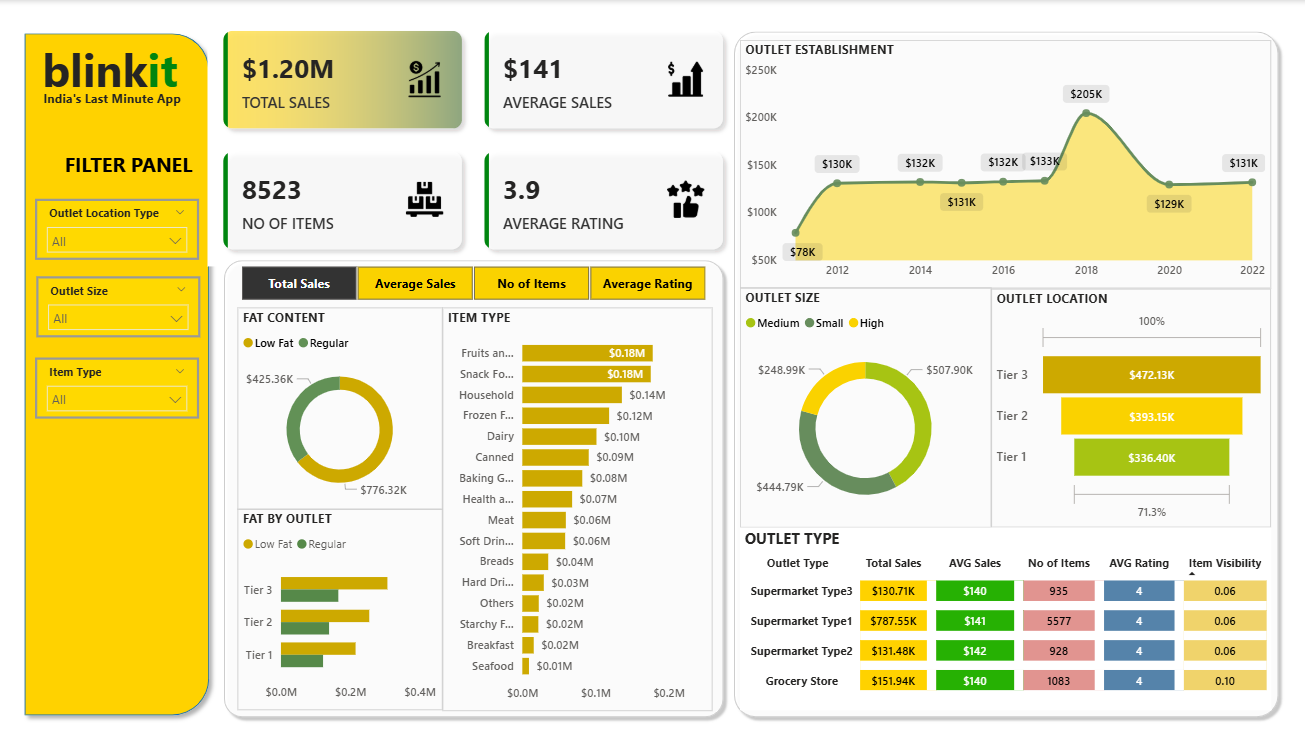

The page's visual inventory and layout, read from the dashboard file:
{"tool":"powerbi","page":{"name":"Page 1","canvas":[1400,800],"ordinal":0},"visuals":[{"type":"shape","box":[17.4,26.8,215.8,749.3],"z":0},{"type":"textbox","box":[40.2,36.2,160.9,75.1],"z":1000},{"type":"textbox","box":[41.6,91.2,159.5,29.5],"z":2000},{"type":"cardVisual","fields":{"Data":["Sheet1.Total Sales","Sheet1.Average Sales","Sheet1.No of Items","Sheet1.Average Rating"]},"box":[222.5,16.1,571,269.4],"z":3000},{"type":"shape","box":[233.2,272.1,549.6,504],"z":4000},{"type":"slicer","fields":{"Values":["Metrics.Metrics"]},"box":[233.2,278.8,546.9,49.6],"z":5000},{"type":"donutChart","title":"FAT CONTENT","fields":{"Y":["Sheet1.Total Sales"],"Category":["Sheet1.Item Fat Content"]},"box":[254.7,330.3,219.8,217.2],"z":6000},{"type":"barChart","title":"ITEM TYPE","fields":{"Y":["Sheet1.Total Sales"],"Category":["Sheet1.Item Type"]},"box":[474.5,329.8,289.5,433],"z":7000},{"type":"clusteredBarChart","title":"FAT BY OUTLET","fields":{"Y":["Sheet1.Total Sales"],"Category":["Sheet1.Outlet Location Type"],"Series":["Sheet1.Item Fat Content"]},"box":[254.7,545.6,219.8,215.8],"z":8000},{"type":"shape","box":[780.2,26.8,597.9,749.3],"z":9000},{"type":"lineChart","title":"OUTLET ESTABLISHMENT","fields":{"Y":["Sheet1.Total Sales"],"Category":["Sheet1.Outlet Establishment Year"]},"box":[793.6,42.9,569.7,266.8],"z":10000},{"type":"donutChart","title":"OUTLET SIZE","fields":{"Y":["Sheet1.Total Sales"],"Category":["Sheet1.Outlet Size"]},"box":[793.6,308.3,269.4,257.4],"z":11000},{"type":"funnel","title":"OUTLET LOCATION","fields":{"Y":["Sheet1.Total Sales"],"Category":["Sheet1.Outlet Location Type","Sheet1.Item Fat Content"]},"box":[1063,309.7,300.3,256],"z":12000},{"type":"pivotTable","title":"OUTLET TYPE","fields":{"Rows":["Sheet1.Outlet Type"],"Values":["Sheet1.Total Sales","Sheet1.Average Sales","Sheet1.No of Items","Sheet1.Average Rating","Avg(Sheet1.Item Visibility)"]},"box":[793.6,565.7,569.7,195.7],"z":13000},{"type":"slicer","fields":{"Values":["Sheet1.Outlet Location Type"]},"box":[37.5,213.1,175.6,65.7],"z":14000},{"type":"slicer","fields":{"Values":["Sheet1.Outlet Size"]},"box":[38.9,296.2,175.6,65.7],"z":15000},{"type":"slicer","fields":{"Values":["Sheet1.Item Type"]},"box":[37.5,383.4,175.6,65.7],"z":16000},{"type":"textbox","box":[64.3,156.8,154.2,40.2],"z":17000}]}

Visuals, with their boxes in screenshot pixels (x1, y1, x2, y2), scaled from the page's 1400x800 canvas onto the 1305x745 screenshot:
shape: (left=16, top=25, right=217, bottom=723)
textbox: (left=37, top=34, right=187, bottom=104)
textbox: (left=39, top=85, right=187, bottom=112)
cardVisual - Sheet1.Total Sales x Sheet1.Average Sales: (left=207, top=15, right=740, bottom=266)
shape: (left=217, top=253, right=730, bottom=723)
slicer - Metrics.Metrics: (left=217, top=260, right=727, bottom=306)
"FAT CONTENT" donutChart: (left=237, top=308, right=442, bottom=510)
"ITEM TYPE" barChart: (left=442, top=307, right=712, bottom=710)
"FAT BY OUTLET" clusteredBarChart: (left=237, top=508, right=442, bottom=709)
shape: (left=727, top=25, right=1285, bottom=723)
"OUTLET ESTABLISHMENT" lineChart: (left=740, top=40, right=1271, bottom=288)
"OUTLET SIZE" donutChart: (left=740, top=287, right=991, bottom=527)
"OUTLET LOCATION" funnel: (left=991, top=288, right=1271, bottom=527)
"OUTLET TYPE" pivotTable: (left=740, top=527, right=1271, bottom=709)
slicer - Sheet1.Outlet Location Type: (left=35, top=198, right=199, bottom=260)
slicer - Sheet1.Outlet Size: (left=36, top=276, right=200, bottom=337)
slicer - Sheet1.Item Type: (left=35, top=357, right=199, bottom=418)
textbox: (left=60, top=146, right=204, bottom=183)
